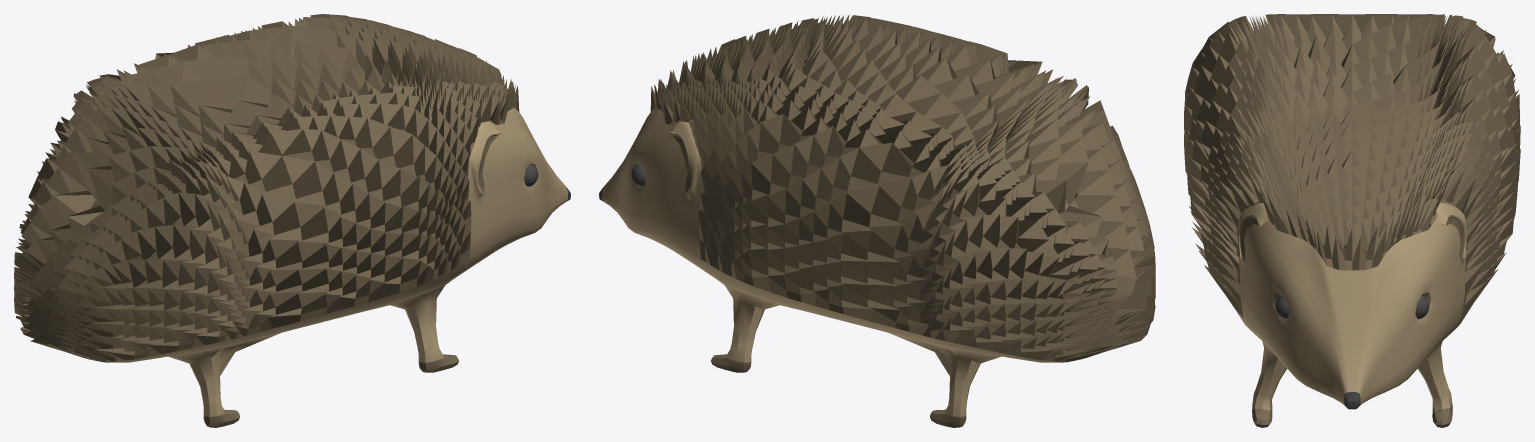
File: Hedgehog (2).fbx
3 renders of one model, left to right at view 1: azimuth 30°, elevation 25°; view 2: azimuth 150°, elevation 25°; view 3: azimuth 270°, elevation 25°, orthographic. The views are drawn at different scales.
Visible parts, largest first — view 1: Куб.006, Куб, Куб.003; view 2: Куб.006, Куб, Куб.003; view 3: Куб.006, Куб, Куб.003, Куб.004.
Part boxes in pixels (x1=…): Куб.006: x1=14, y1=14, x2=519, y2=362; Куб: x1=109, y1=108, x2=567, y2=416; Куб.003: x1=203, y1=354, x2=458, y2=427; Куб.006: x1=650, y1=14, x2=1155, y2=362; Куб: x1=602, y1=108, x2=1060, y2=416; Куб.003: x1=711, y1=354, x2=966, y2=427; Куб.006: x1=1184, y1=14, x2=1520, y2=317; Куб: x1=1234, y1=202, x2=1470, y2=410; Куб.003: x1=1252, y1=403, x2=1452, y2=427; Куб.004: x1=1240, y1=216, x2=1464, y2=261.
Size of the model in its own units: 498 by 266 by 261.
